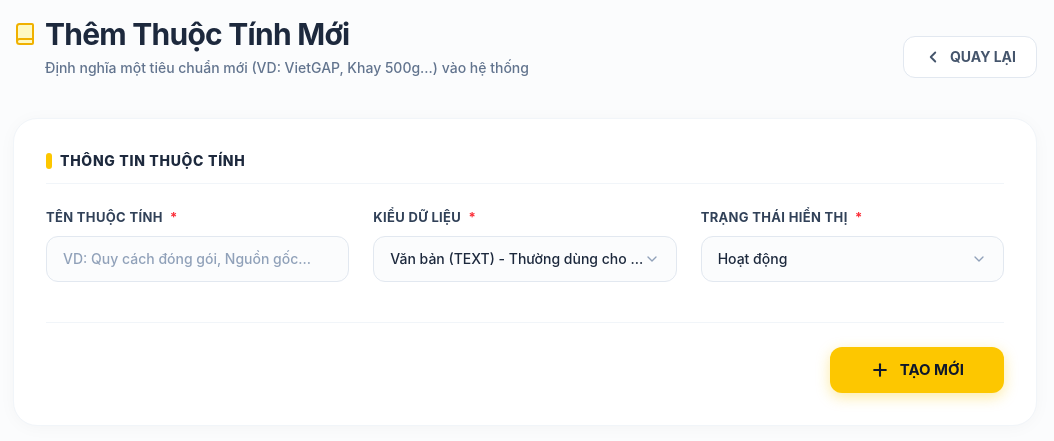
it: Module 04 - AttributeDefinitionForm Component › TC02 - Hiển thị lỗi validation khi submit dữ liệu trống
Expected: the heading "Thêm Thuộc Tính Mới" is shown, [45,16,349,52]
Click the button "TẠO MỚI": (917, 370) [830,346,1004,393]
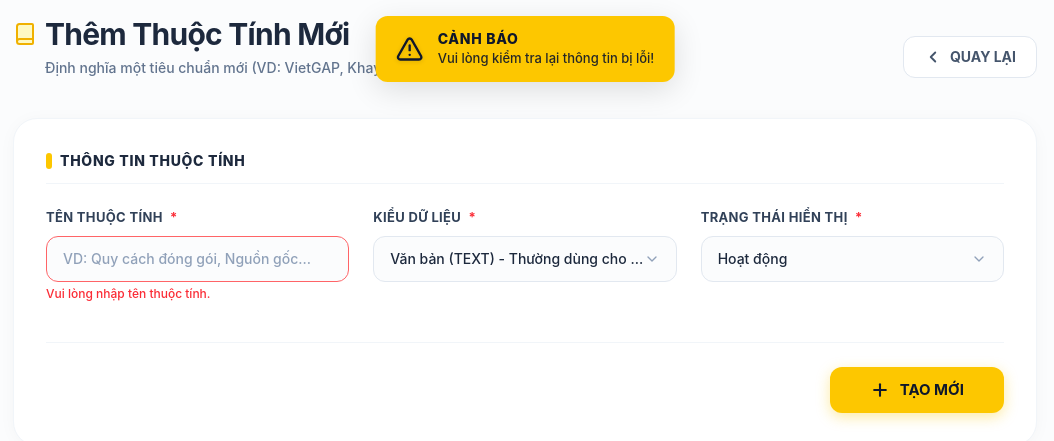
Expected: the text "Vui lòng nhập tên thuộc tính." is shown, [46,286,210,300]
